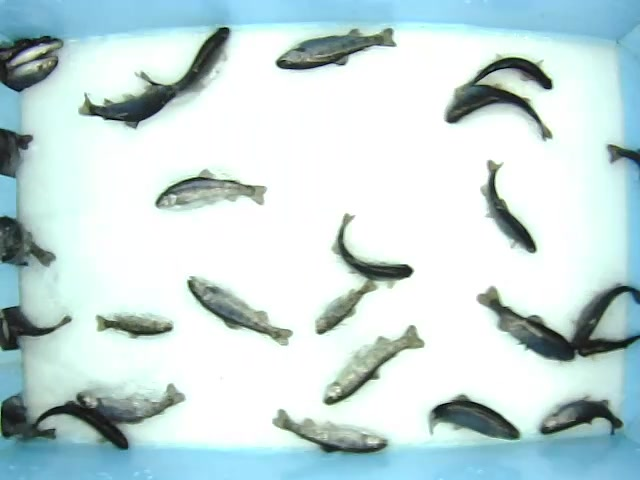fish: (322, 324, 426, 407), (472, 284, 575, 362), (186, 274, 293, 347), (133, 26, 232, 95), (442, 84, 557, 141), (332, 211, 415, 289), (273, 26, 398, 75), (476, 158, 537, 254), (270, 407, 390, 455), (31, 399, 130, 451), (74, 382, 187, 427), (570, 281, 640, 352), (151, 169, 266, 210), (428, 393, 522, 442), (76, 87, 176, 130), (536, 394, 627, 437), (313, 278, 379, 336), (460, 53, 554, 90), (94, 313, 176, 340), (578, 332, 640, 359)
